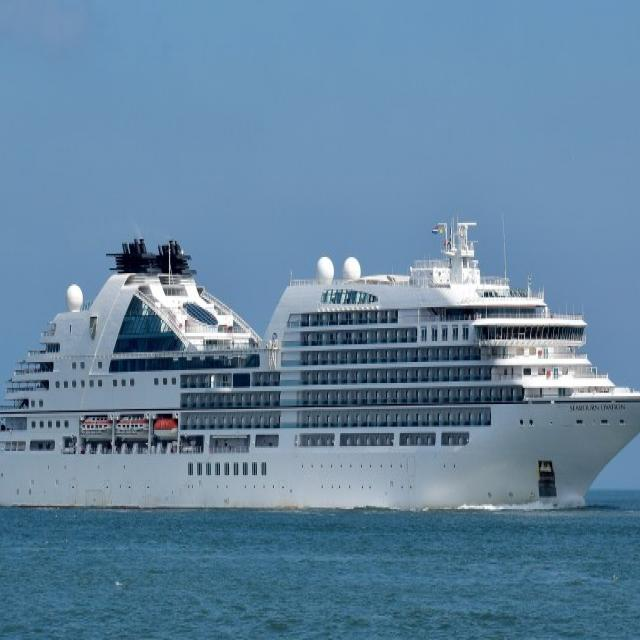cruises: (1, 211, 640, 530)
